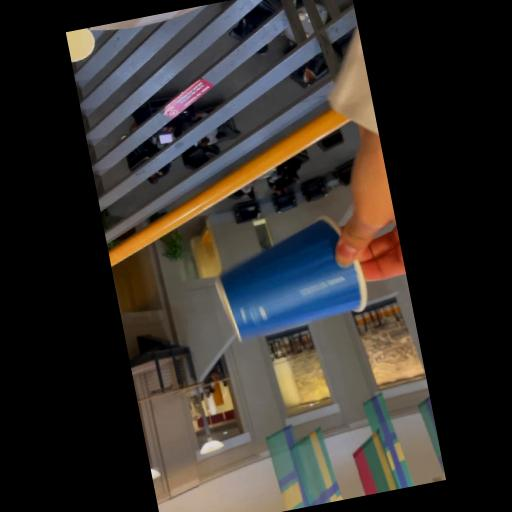lp_paper_cup: (193, 204, 386, 358)
